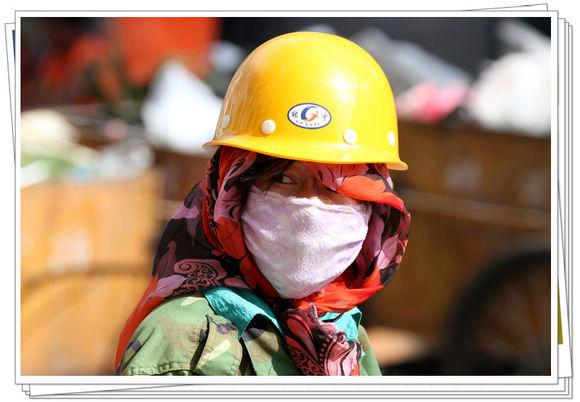OK: (240, 156, 381, 297)
